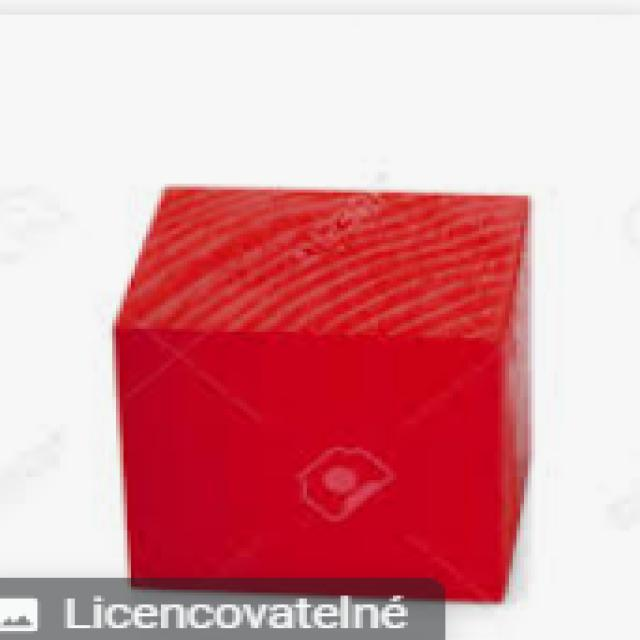red cube: (113, 179, 539, 604)
